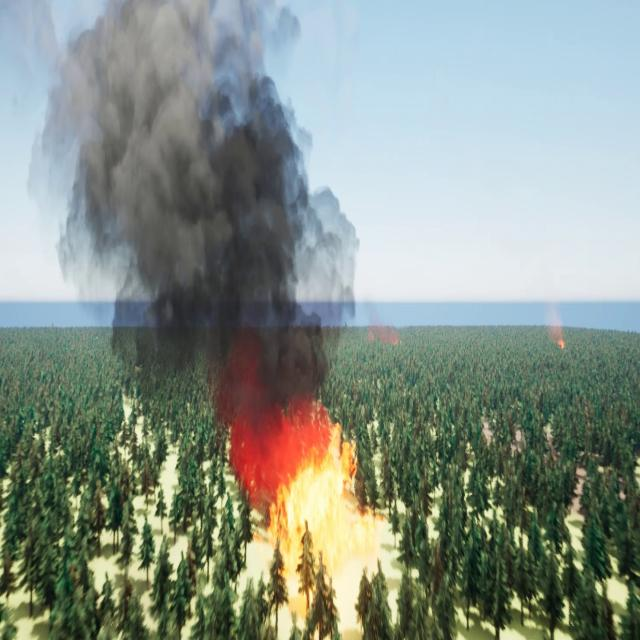fire: (233, 425, 390, 611)
smoke: (0, 0, 362, 422), (365, 314, 403, 352), (548, 302, 568, 355)
